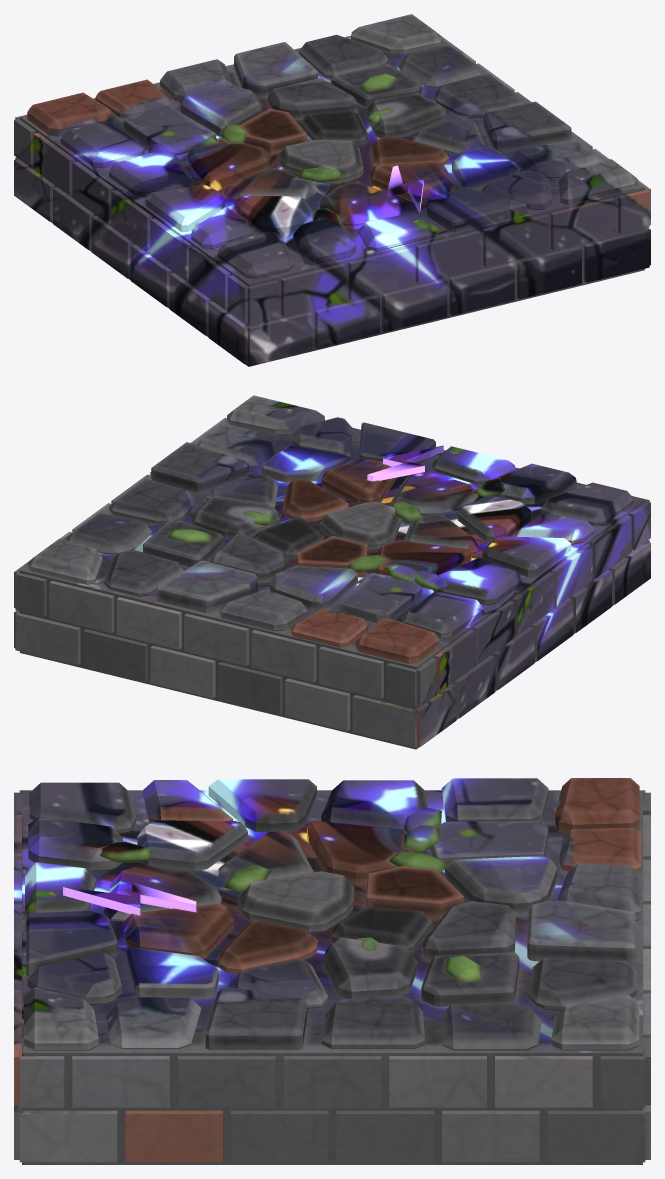
The model's file is spark_plate.glb.
The picture shows the model from 3 angles, top to bottom: view 1: azimuth 30°, elevation 25°; view 2: azimuth 150°, elevation 25°; view 3: azimuth 270°, elevation 25°; orthographic projection. The views are drawn at different scales.
Visible parts, largest first — view 1: spark_plate; view 2: spark_plate; view 3: spark_plate.
Boxes of the visible parts, left/top/right/bottom form: spark_plate: left=14, top=14, right=650, bottom=366; spark_plate: left=14, top=395, right=650, bottom=749; spark_plate: left=14, top=778, right=650, bottom=1164.
Size of the model in its own units: 2.01 by 0.484 by 2.01.
Materials: 1 (1 with a texture image).
